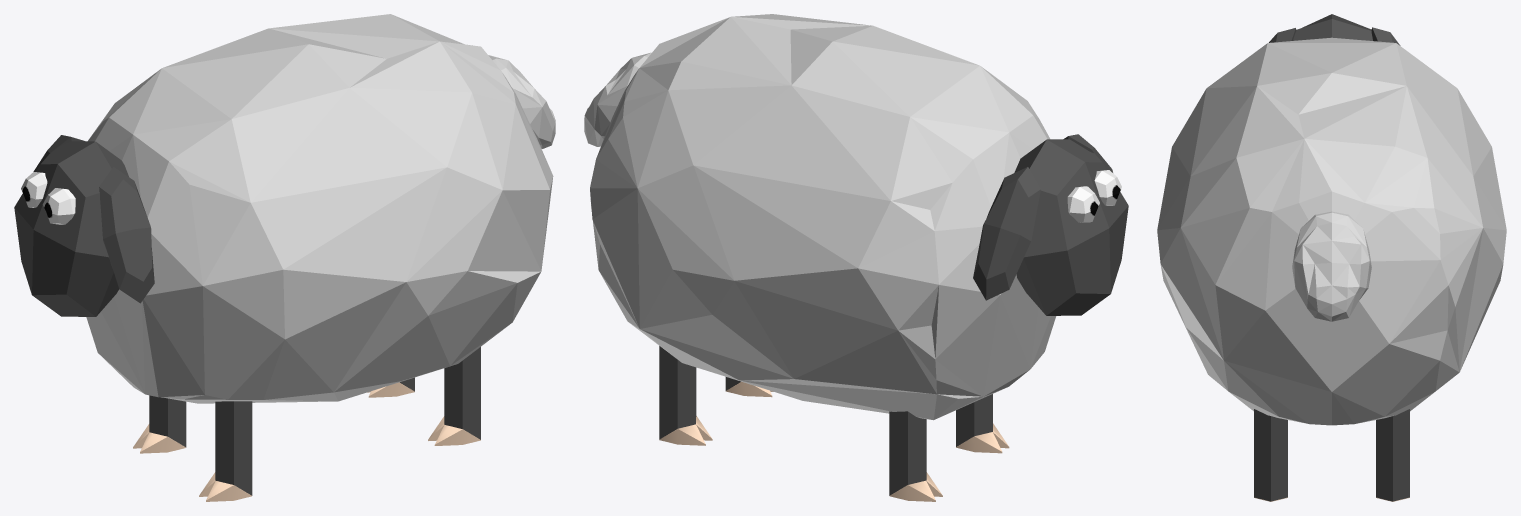
Rendered from Low_Poly_Sheep.glb.
The picture shows the model from 3 angles, left to right: view 1: azimuth 30°, elevation 25°; view 2: azimuth 150°, elevation 25°; view 3: azimuth 270°, elevation 25°; orthographic projection. The views are drawn at different scales.
Parts seen in each view (by area): view 1: pCylinder12_wool_0, pCylinder12_Sheep_Skin_0, pCylinder12_Hoof_0, pCylinder12_EYE_0; view 2: pCylinder12_wool_0, pCylinder12_Sheep_Skin_0, pCylinder12_Hoof_0, pCylinder12_EYE_0; view 3: pCylinder12_wool_0, pCylinder12_Sheep_Skin_0.
Boxes of the visible parts, x1=… form: pCylinder12_wool_0: x1=86, y1=14, x2=555, y2=403; pCylinder12_Sheep_Skin_0: x1=14, y1=135, x2=480, y2=495; pCylinder12_Hoof_0: x1=133, y1=382, x2=480, y2=501; pCylinder12_EYE_0: x1=21, y1=172, x2=75, y2=224; pCylinder12_wool_0: x1=584, y1=14, x2=1056, y2=420; pCylinder12_Sheep_Skin_0: x1=659, y1=134, x2=1128, y2=495; pCylinder12_Hoof_0: x1=659, y1=381, x2=1009, y2=501; pCylinder12_EYE_0: x1=1067, y1=170, x2=1121, y2=222; pCylinder12_wool_0: x1=1157, y1=37, x2=1506, y2=425; pCylinder12_Sheep_Skin_0: x1=1254, y1=14, x2=1409, y2=501.
Size of the model in its own units: 1.36 by 0.9949 by 0.8605.
4 materials, 1 textured.
